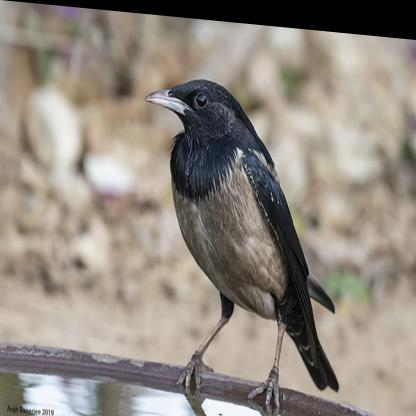Burung: (144, 71, 343, 407)
